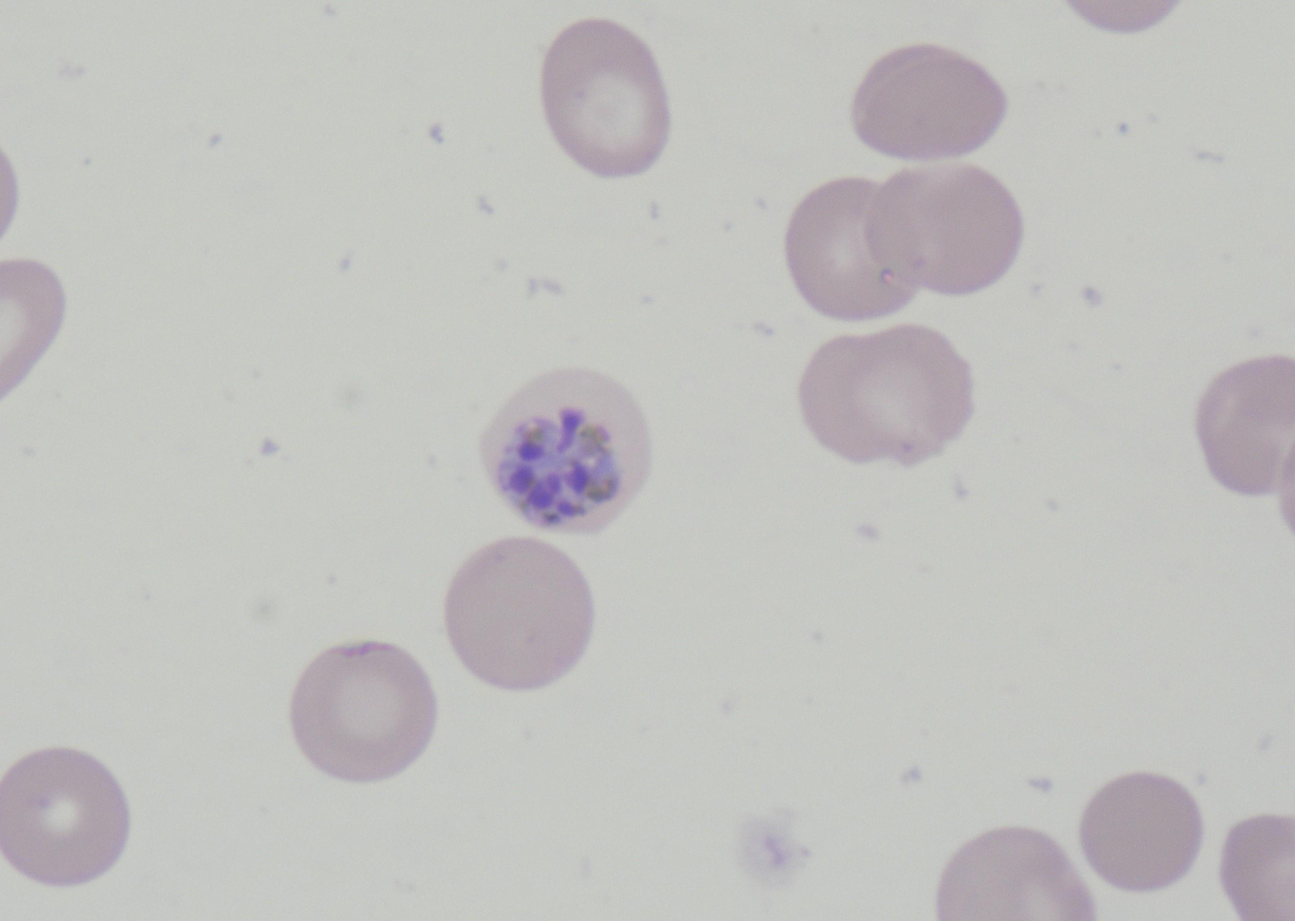Infected: (480, 368, 655, 535)
Uninfected: (445, 538, 594, 688), (541, 18, 667, 178), (787, 176, 926, 318), (871, 168, 1025, 296), (294, 643, 438, 776), (851, 44, 1005, 161), (847, 321, 970, 463), (0, 754, 131, 887), (802, 324, 915, 463), (935, 823, 1091, 921), (1076, 772, 1200, 890), (1198, 357, 1295, 495)
